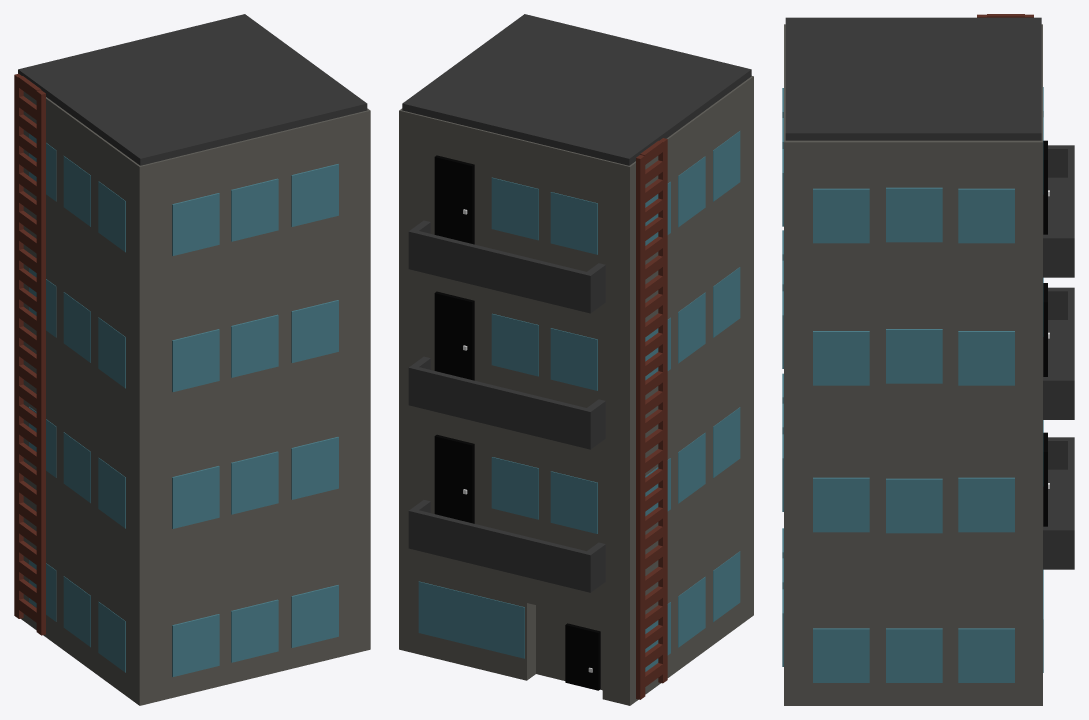
File: building3.glb
3 views of the same model, side by side, from view 1: azimuth 30°, elevation 25°; view 2: azimuth 150°, elevation 25°; view 3: azimuth 270°, elevation 25° (orthographic). The views are drawn at different scales.
Visible parts, largest first — view 1: Cube, Cube.041, Cube.057, Cube.056, Cube.036, Cube.033, Cube.030, Cube.044, Cube.029, Cube.031, Cube.032, Cube.034 (+16 smaller); view 2: Cube, Cube.041, Cube.053, Cube.008, Cube.002, Cube.010, Cube.056, Cube.057, Cube.003, Cube.007, Cube.054, Cube.004 (+14 smaller); view 3: Cube, Cube.041, Cube.053, Cube.002, Cube.008, Cube.023, Cube.025, Cube.046, Cube.048, Cube.070, Cube.084, Cube.020 (+8 smaller).
Boxes of the visible parts, x1,y1,x2,y2 form: Cube: (21,91,370,705); Cube.041: (18,14,367,165); Cube.057: (36,90,45,635); Cube.056: (14,73,23,618); Cube.036: (231,599,278,662); Cube.033: (231,451,278,514); Cube.030: (231,314,278,377); Cube.044: (231,178,278,241); Cube.029: (172,329,219,391); Cube.031: (291,300,338,362); Cube.032: (291,437,338,499); Cube.034: (172,466,219,528); Cube: (399,76,753,705); Cube.041: (402,14,751,165); Cube.053: (408,220,605,313); Cube.008: (408,356,605,449); Cube.002: (408,500,605,592); Cube.010: (418,581,524,658); Cube.056: (636,155,645,699); Cube.057: (658,138,667,683); Cube.003: (434,434,474,523); Cube.007: (434,291,474,380); Cube.054: (434,155,474,244); Cube.004: (550,471,597,533); Cube: (784,24,1042,705); Cube.041: (785,17,1041,140); Cube.053: (1043,145,1074,277); Cube.002: (1043,437,1074,569); Cube.008: (1043,287,1074,419); Cube.023: (958,477,1014,532); Cube.025: (813,477,869,532); Cube.046: (958,188,1014,243); Cube.048: (813,188,869,243); Cube.070: (886,478,942,533); Cube.084: (886,187,942,242); Cube.020: (813,628,869,682).
Bounding box in the file's own units: 3.66 × 7.99 × 3.71.
